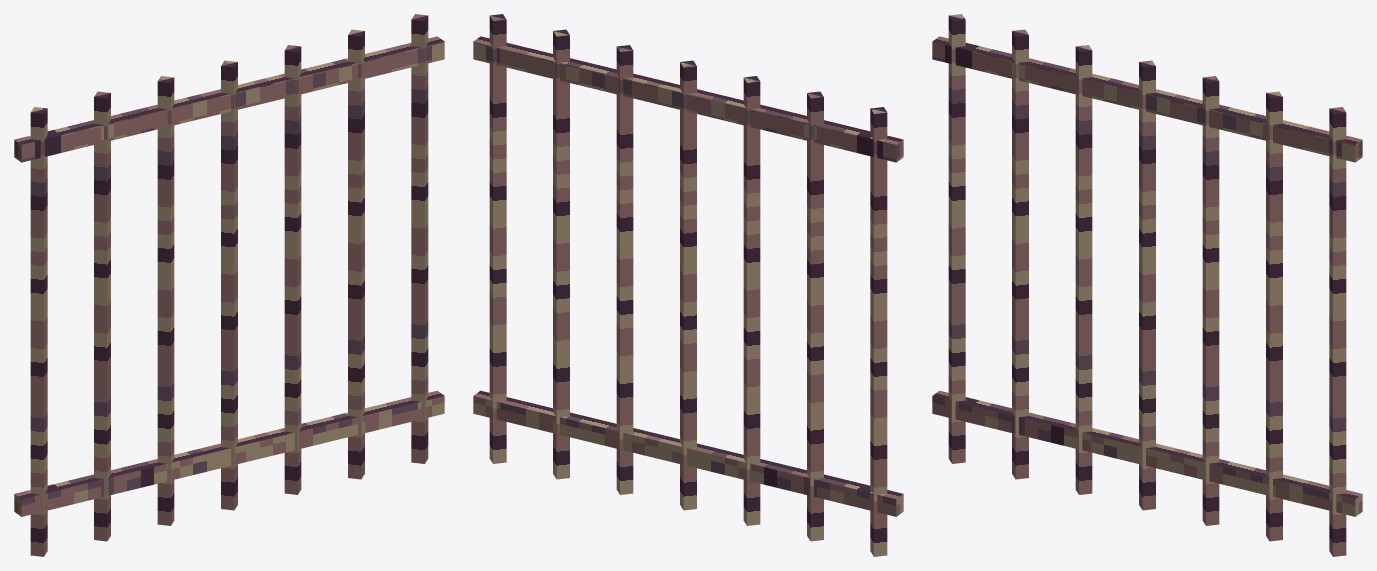
Rendered from a24_palicada.glb.
3 views of the same model, side by side, from view 1: azimuth 30°, elevation 25°; view 2: azimuth 150°, elevation 25°; view 3: azimuth 330°, elevation 25° (orthographic).
Visible parts, largest first — view 1: a24_palicada; view 2: a24_palicada; view 3: a24_palicada.
Boxes of the visible parts, bbox=[...] form: a24_palicada: bbox=[14, 14, 444, 556]; a24_palicada: bbox=[473, 14, 903, 556]; a24_palicada: bbox=[932, 14, 1362, 556].
Bounding box in the file's own units: 2 × 2 × 0.08.
1 material, 1 textured.
